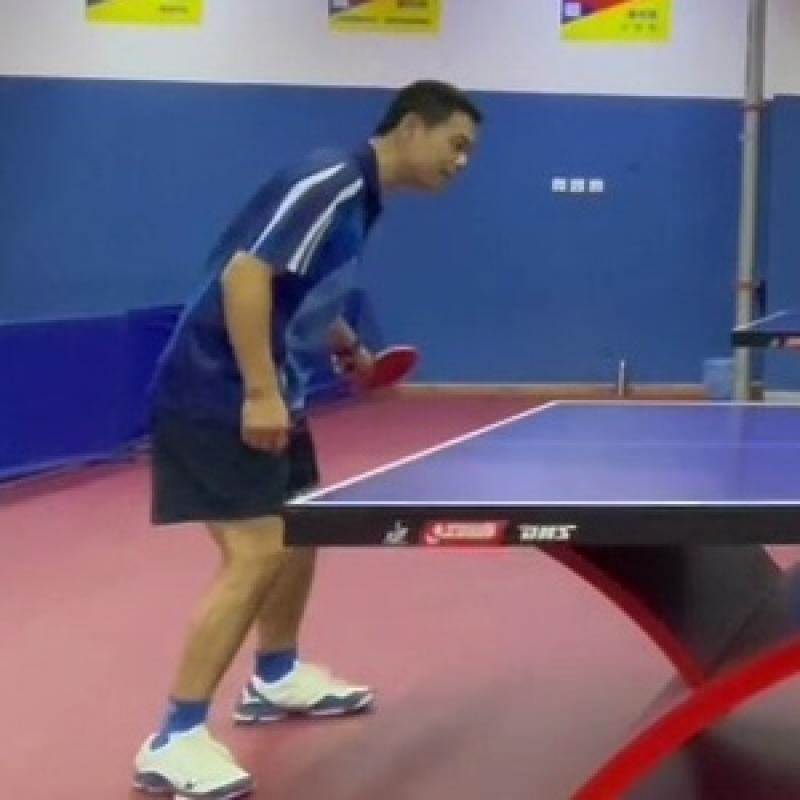bats: (349, 324, 428, 406)
